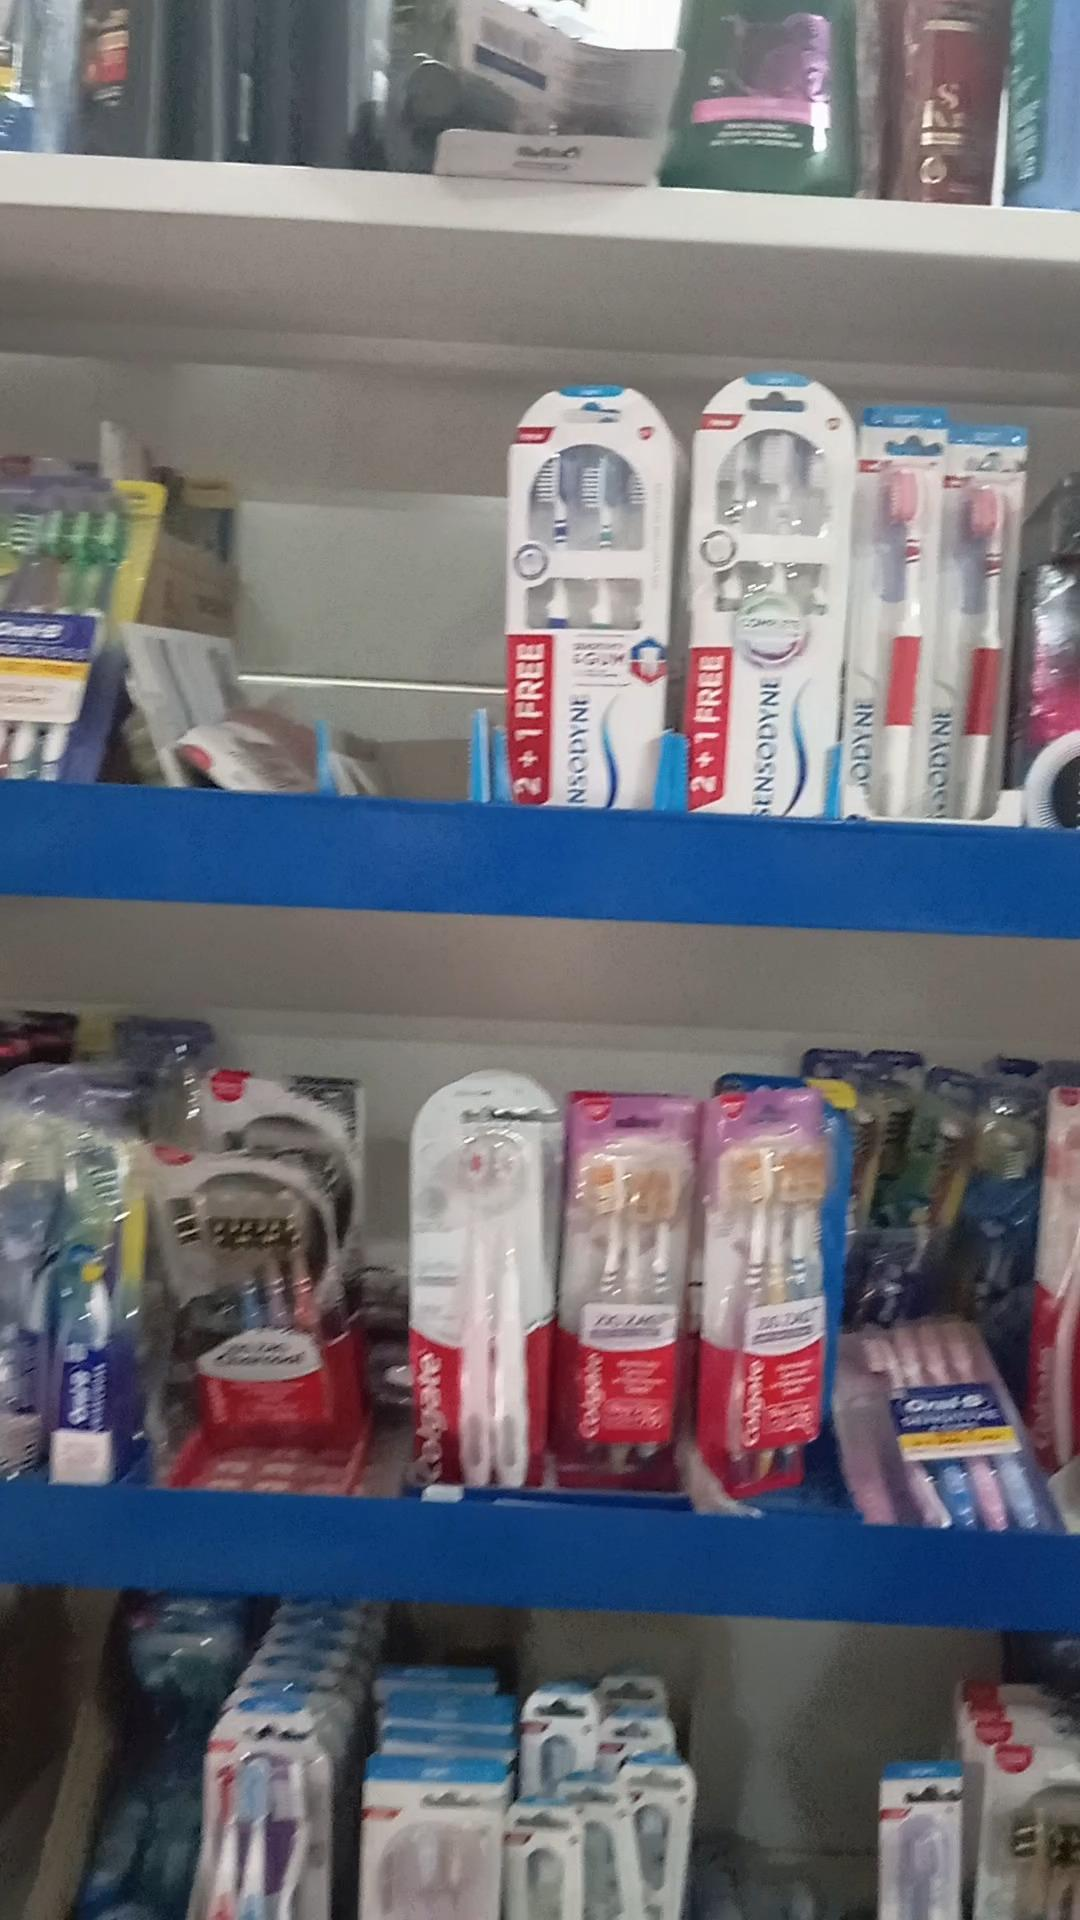10: (851, 1319, 1025, 1526)
16: (509, 385, 669, 807)
4: (691, 371, 836, 815)
9: (57, 1130, 128, 1489)
liquid soap: (156, 1158, 332, 1447)
